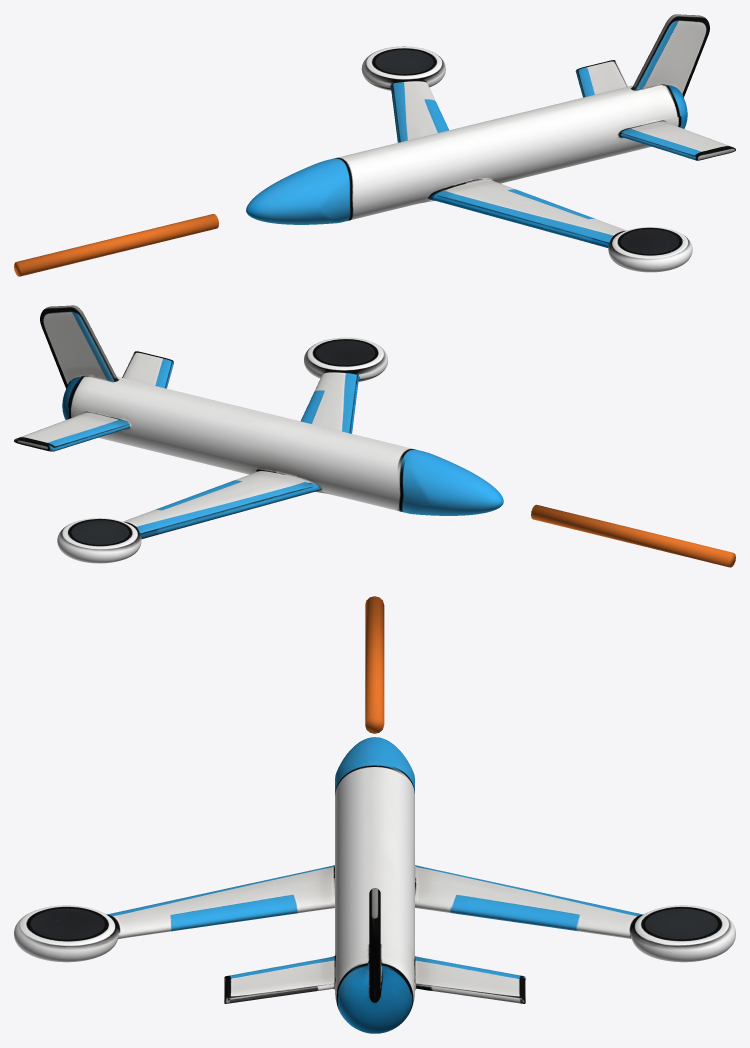
The model's file is drone_with_stick.glb.
3 renders of one model, top to bottom at view 1: azimuth 30°, elevation 25°; view 2: azimuth 150°, elevation 25°; view 3: azimuth 270°, elevation 25°, orthographic. The views are drawn at different scales.
Visible parts, largest first — view 1: Mesh_0, HeadingStick; view 2: Mesh_0, HeadingStick; view 3: Mesh_0, HeadingStick.
Part boxes in pixels (bbox=[...]): Mesh_0: bbox=[246, 14, 735, 272]; HeadingStick: bbox=[14, 214, 218, 276]; Mesh_0: bbox=[14, 305, 503, 563]; HeadingStick: bbox=[531, 504, 735, 567]; Mesh_0: bbox=[14, 737, 735, 1033]; HeadingStick: bbox=[365, 596, 384, 733].
Size of the model in its own units: 2.63 by 0.4433 by 1.9.
Materials: 2 (1 with a texture image).
